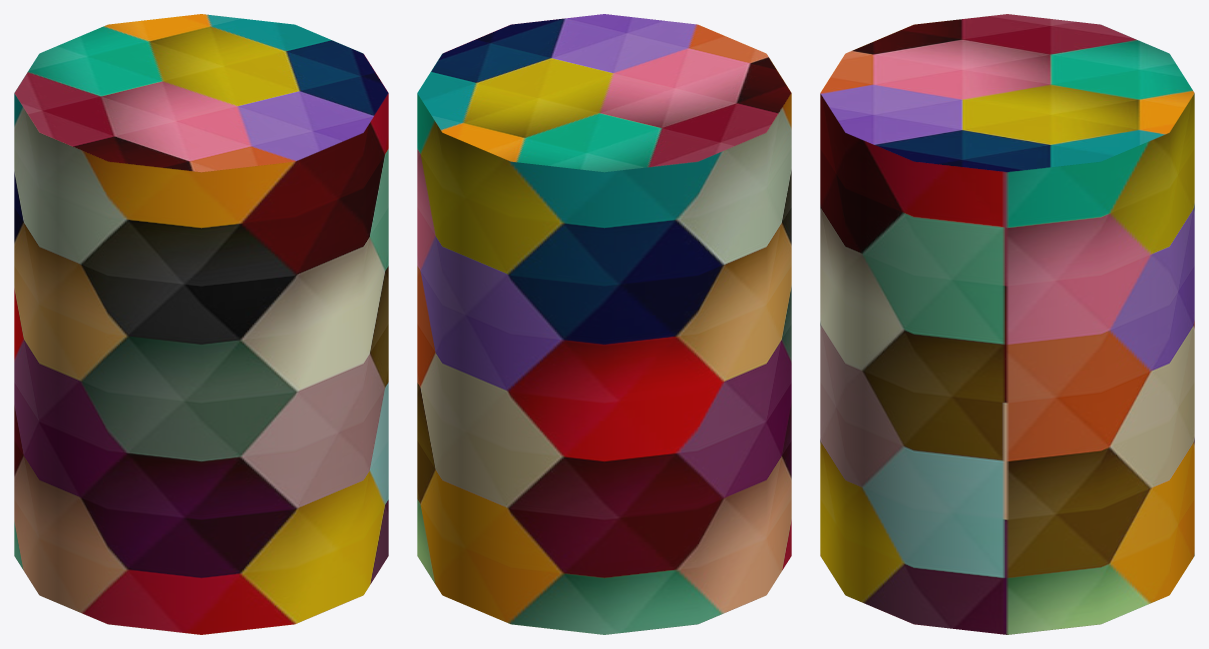
Rendered from PIL0110014.FBX.
The picture shows the model from 3 angles, left to right: view 1: azimuth 30°, elevation 25°; view 2: azimuth 150°, elevation 25°; view 3: azimuth 270°, elevation 25°; orthographic projection.
Visible parts, largest first — view 1: smPIL0110014; view 2: smPIL0110014; view 3: smPIL0110014.
Part boxes in pixels (x1,y1,x2,y2): smPIL0110014: [14, 14, 388, 634]; smPIL0110014: [417, 14, 791, 634]; smPIL0110014: [820, 14, 1194, 634].
Size of the model in its own units: 0.6275 by 0.8557 by 0.6275.
Materials: 1 (1 with a texture image).
